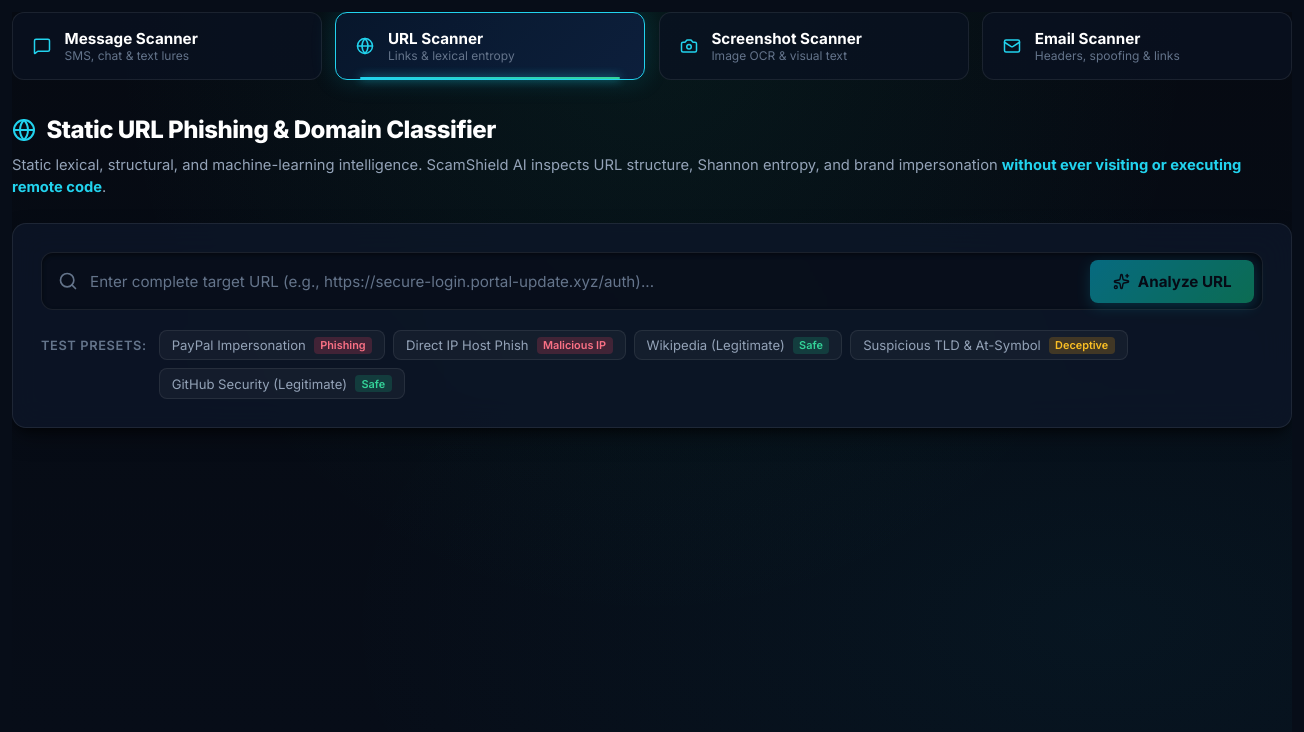
Test: ScannerTab Component › switches between scanning modalities (URL, Message, Screenshot, Email)
// Switch to Message Scanner
Step 1. Click the tab "Message Scanner SMS, chat & text lures" → (167, 46), box [12,12,322,80]
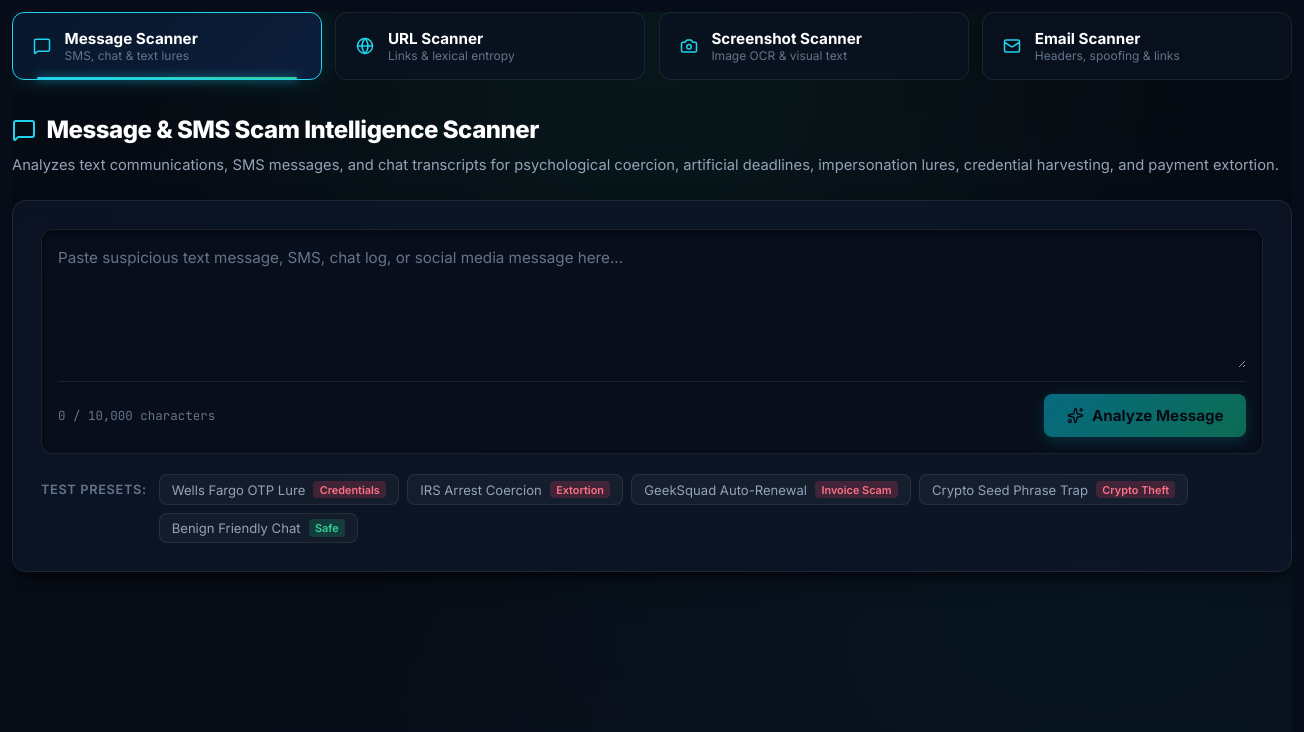
expect the text box with placeholder "Paste suspicious text message, SMS" is shown: met, box [58,246,1246,368]
// Switch to Screenshot Scanner
Step 2. Click the tab "Screenshot Scanner Image OCR & visual text" → (814, 46), box [659,12,969,80]
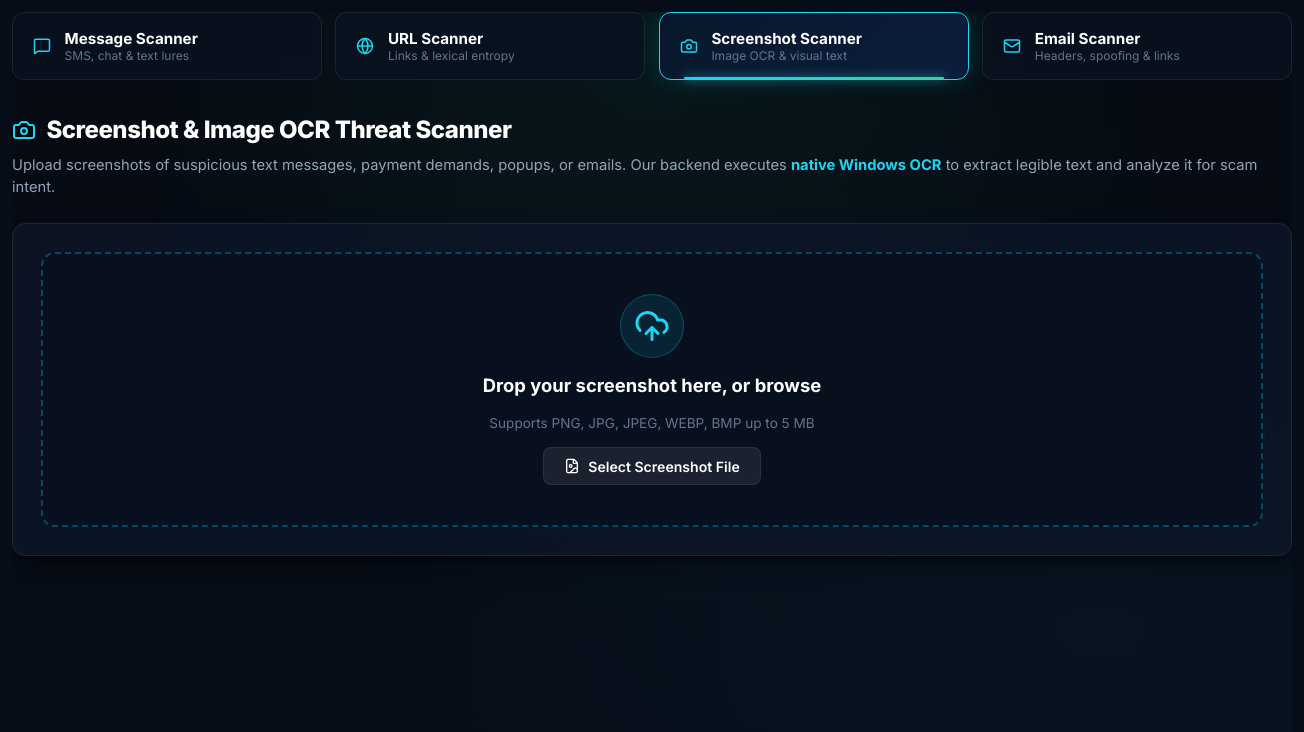
expect the heading "Drop your screenshot here, or browse" is shown: met, box [483,372,821,399]
// Switch to Email Scanner
Step 3. Click the tab "Email Scanner Headers, spoofing & links" → (1137, 46), box [982,12,1292,80]
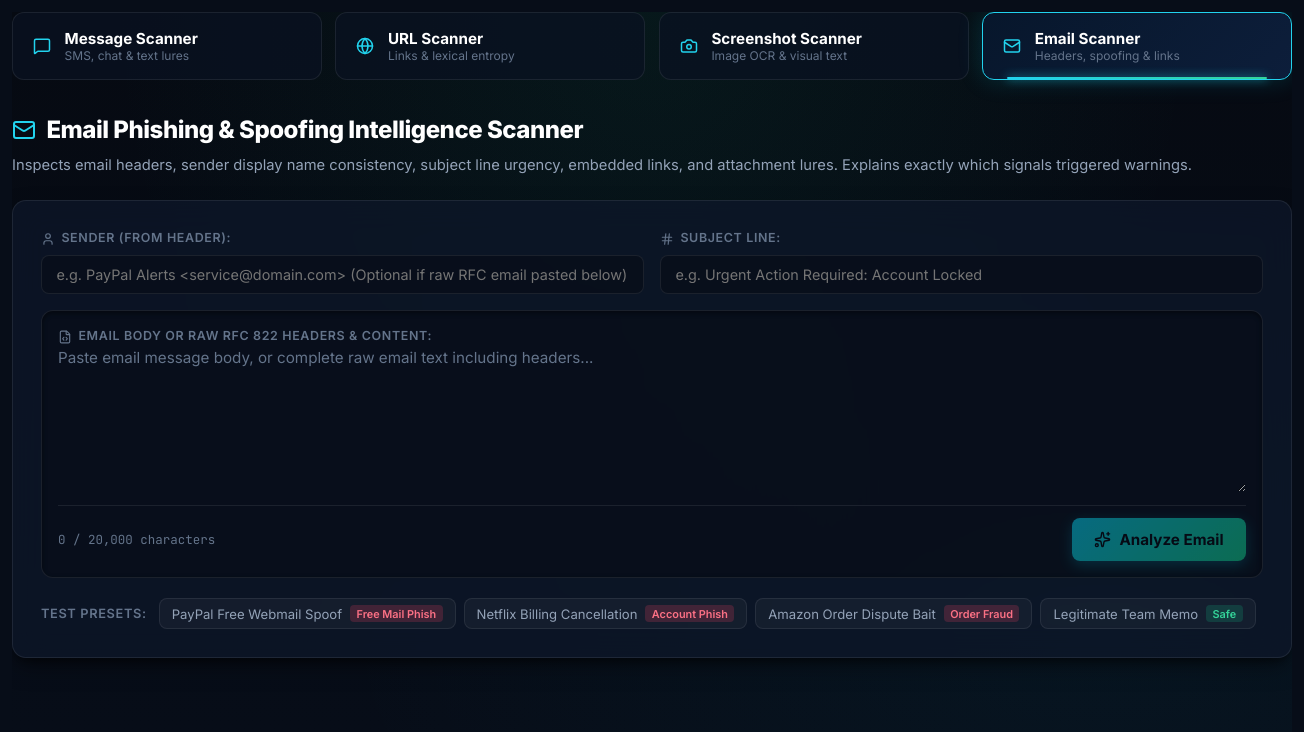
expect the field with placeholder "PayPal Alerts <service@domain.com>" is shown: met, box [41,254,644,294]
expect the field with placeholder "e.g. Urgent Action Required: Account Locked" is shown: met, box [660,254,1263,294]
